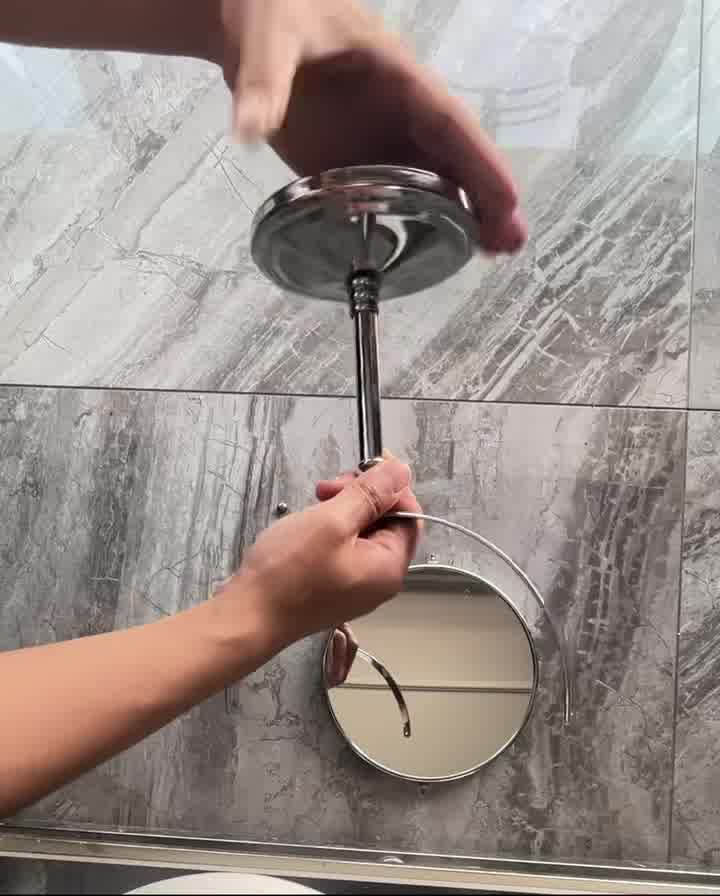base: (239, 143, 514, 313)
frame: (259, 288, 612, 724)
mirror: (309, 550, 552, 799)
screw: (270, 495, 298, 520)
